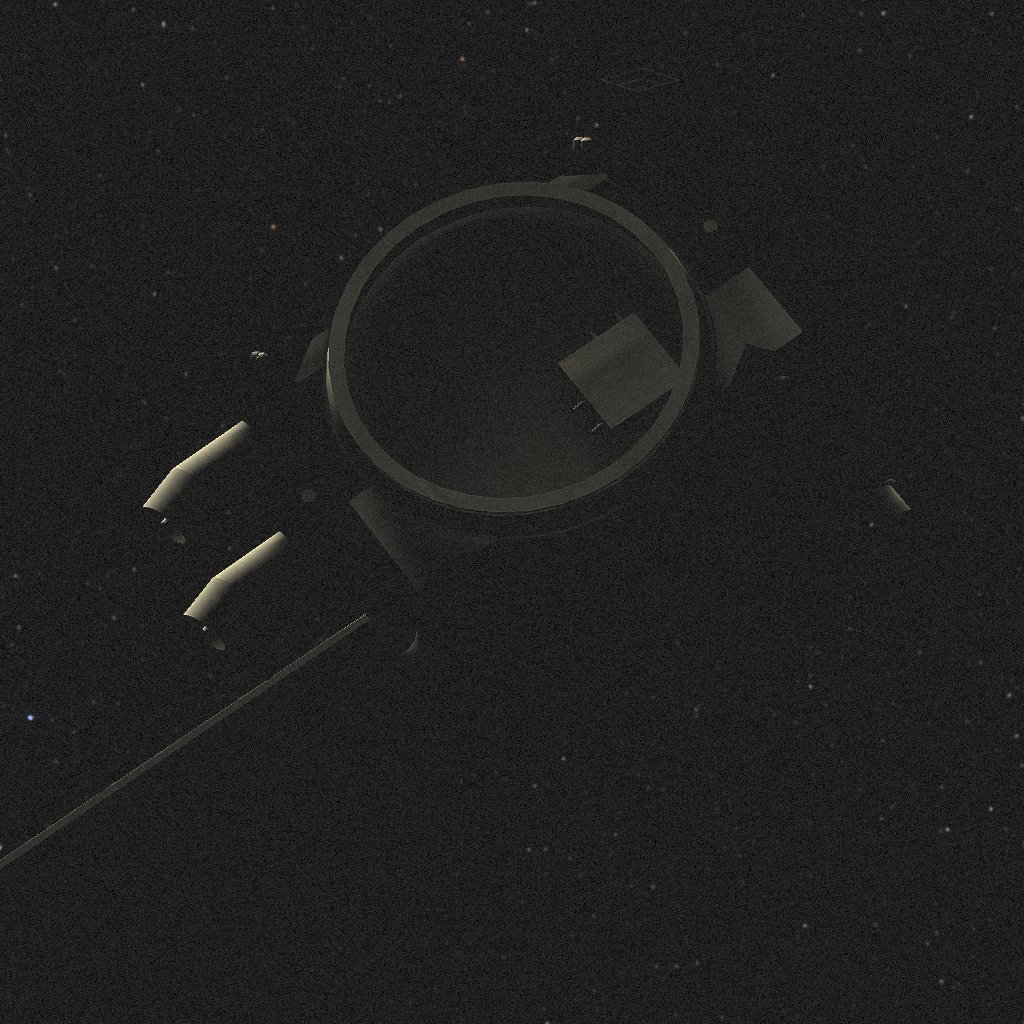proba_3_csc: (40, 78, 954, 901)
